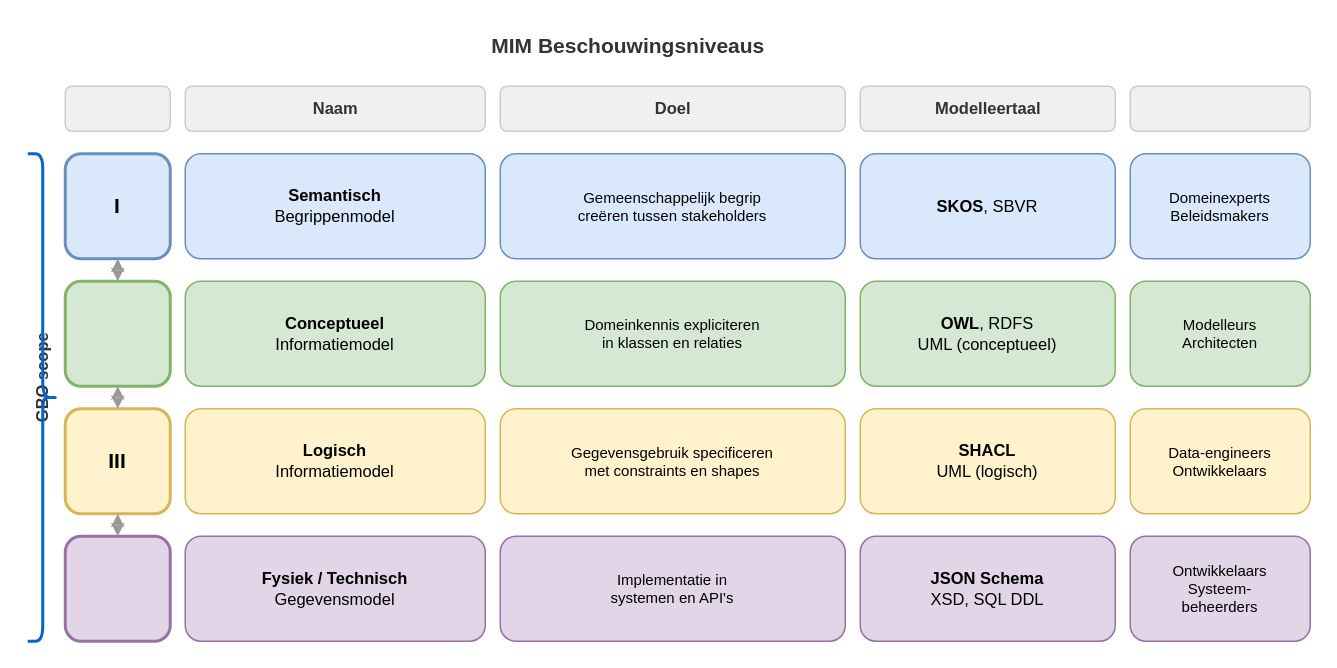
The diagram is 1337 pixels wide and 668 high, and some of its shapes have lost their labels. Each missing label, with the centre of its shape:
Doelgroep: the point at 1219,108
II: the point at 117,333
IV: the point at 117,588
Niveau: the point at 117,108
